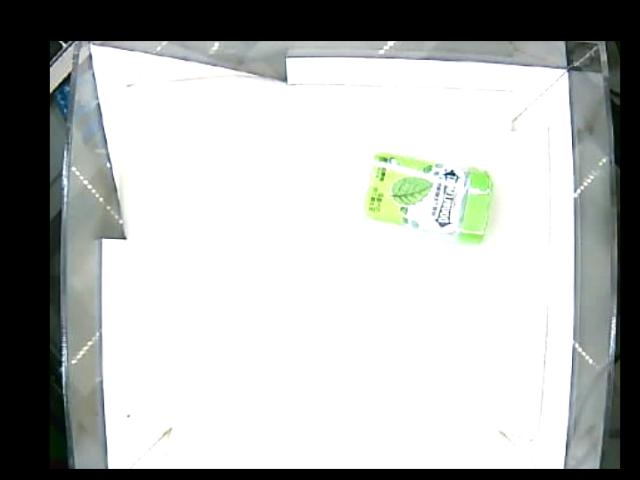Bottle: (358, 154, 491, 244)
